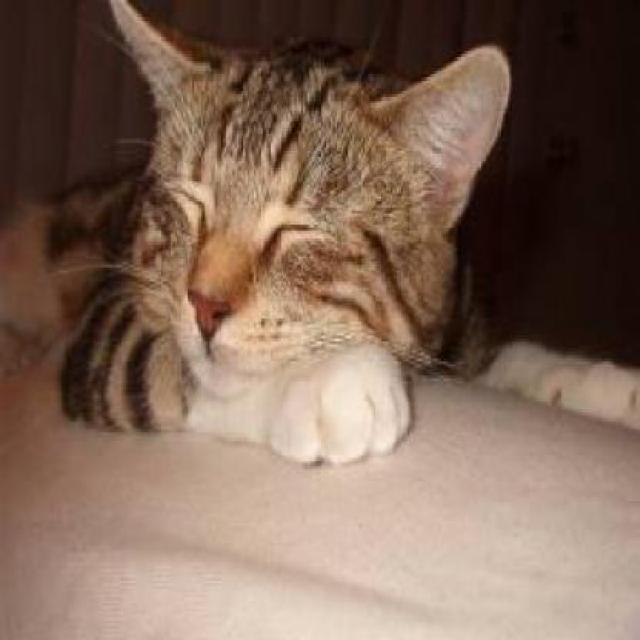cat: (60, 0, 508, 469)
